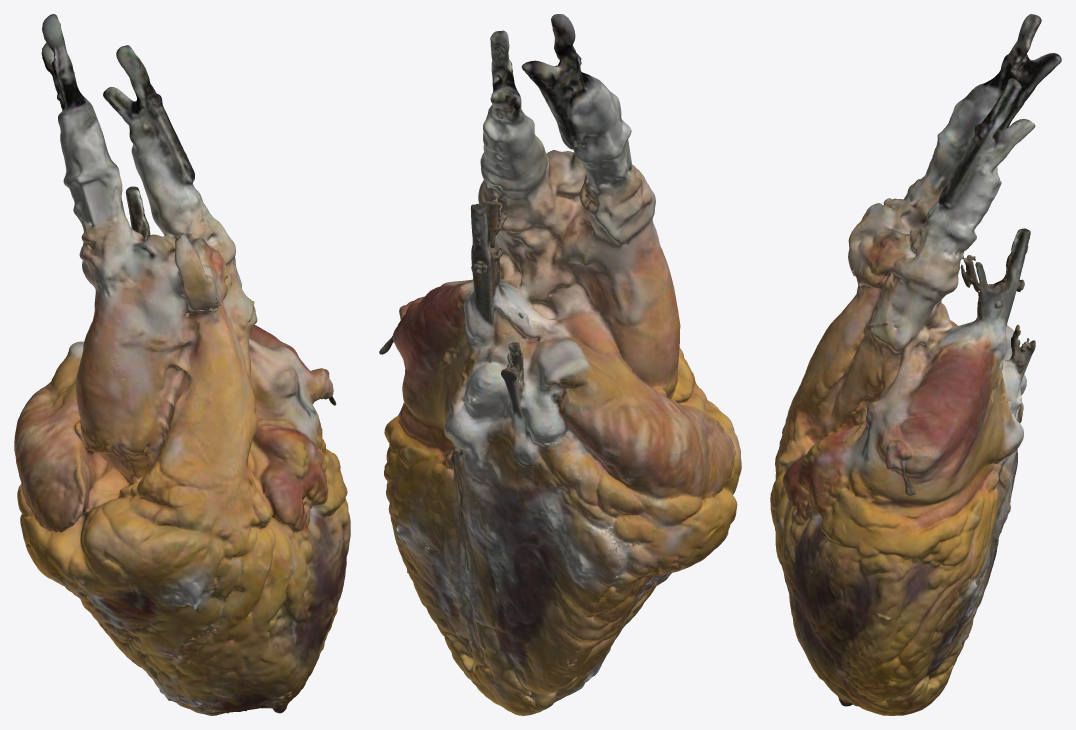
File: RealHeartCoronary2.glb
3 views of the same model, side by side, from view 1: azimuth 30°, elevation 25°; view 2: azimuth 150°, elevation 25°; view 3: azimuth 270°, elevation 25° (orthographic). The views are drawn at different scales.
Parts seen in each view (by area): view 1: Heart; view 2: Heart; view 3: Heart.
Boxes of the visible parts, left/top/right/bottom form: Heart: left=14, top=14, right=350, bottom=715; Heart: left=379, top=14, right=741, bottom=715; Heart: left=770, top=14, right=1061, bottom=715.
Bounding box in the file's own units: 0.1177 × 0.2522 × 0.1034.
1 material, 1 textured.
